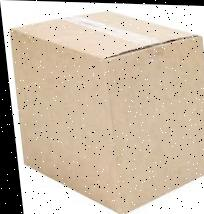cube: (7, 8, 204, 214)
